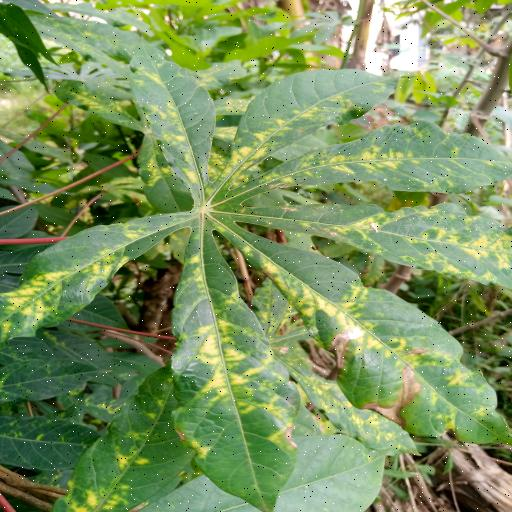Cassava_Mosaic: (0, 36, 512, 491)
